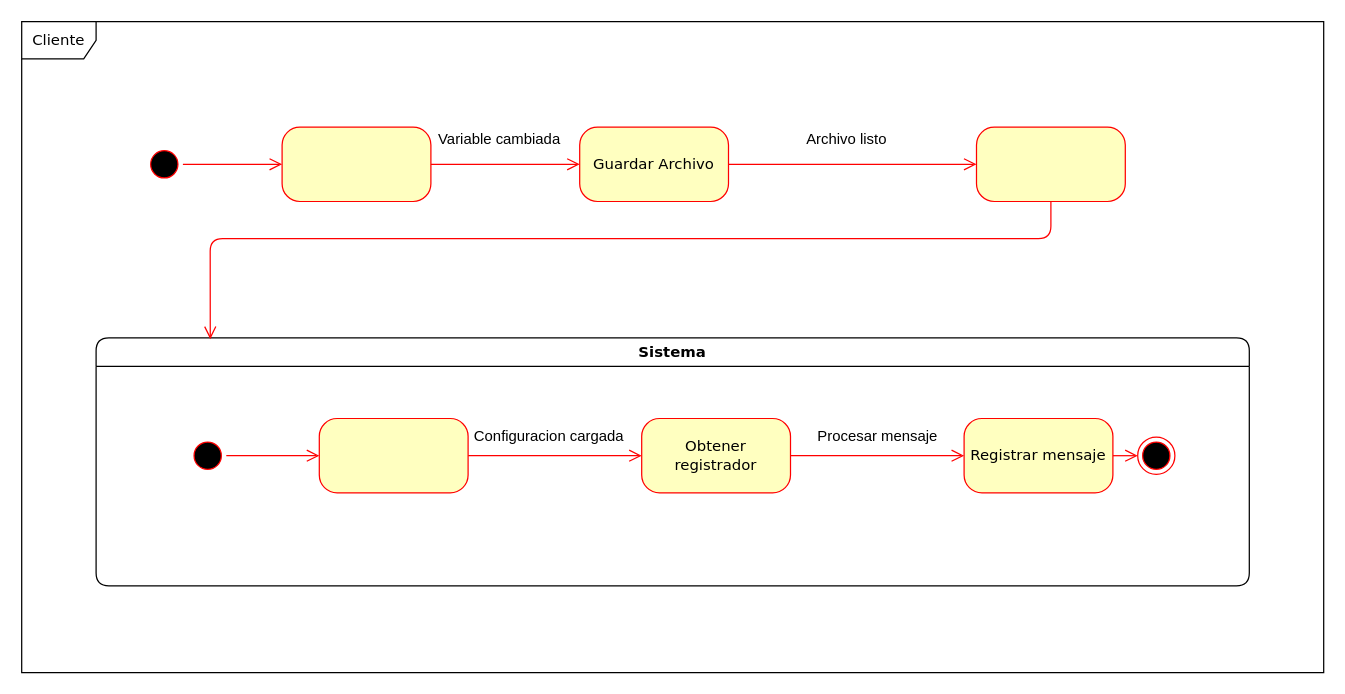
This 1345x694 diagram has some shape labels left out. The shapes that lost their labels are listed below. From the top down, each one's centre as x and y in pixels, then its label:
(356,164): Modificar archivo de propiedades
(1050,164): Ejecutar Programa
(393,455): Leer archivo de configuracion
